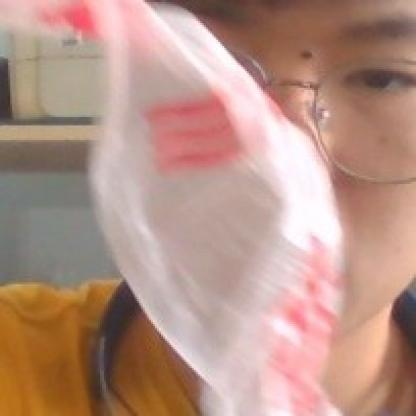trash: (0, 0, 347, 416)
